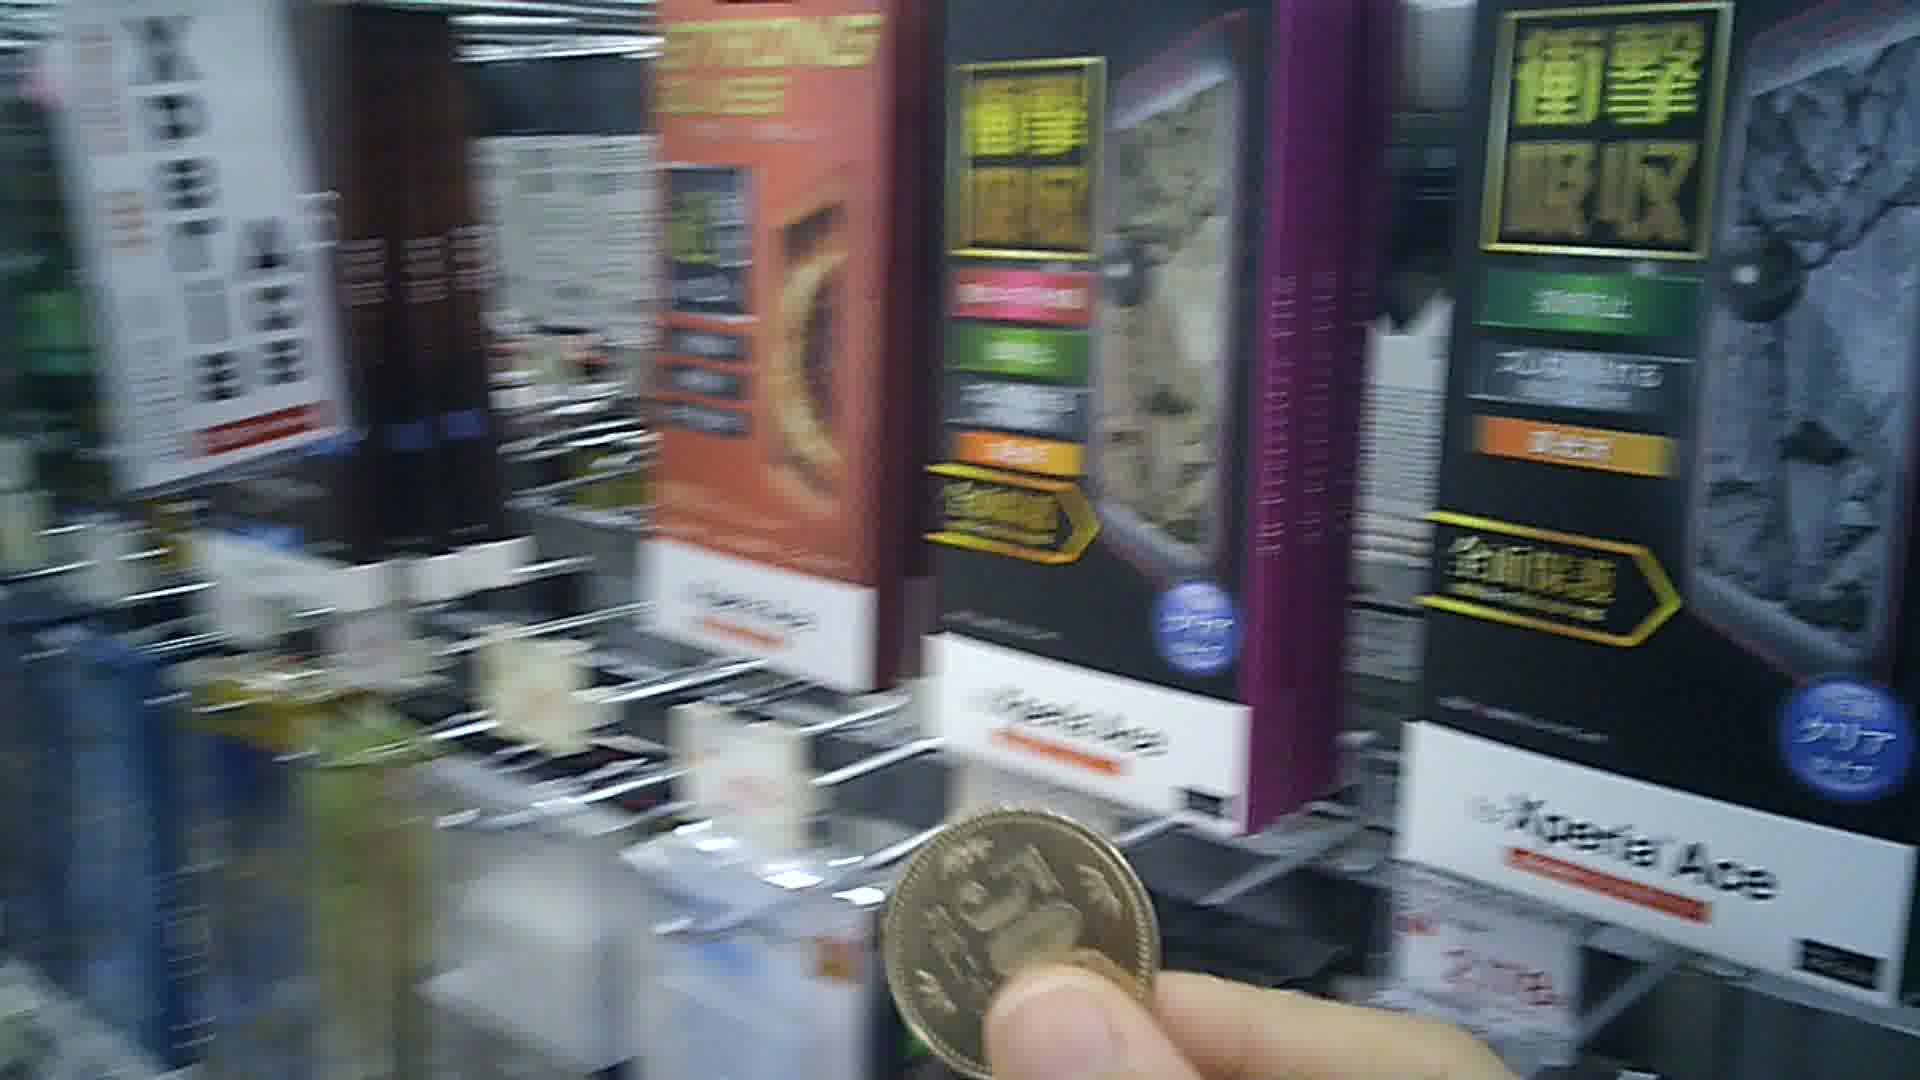500 Yen: (884, 811, 1158, 1079)
